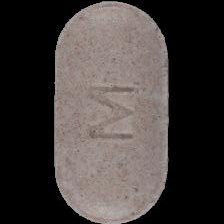53808-0946: (0, 0, 224, 224)
